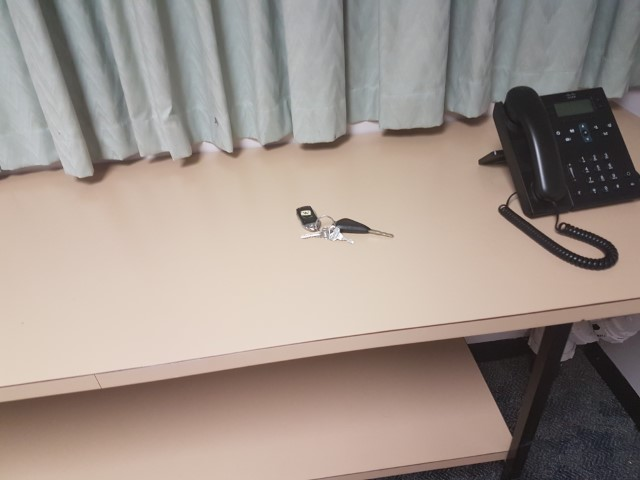key: (335, 218, 394, 242)
